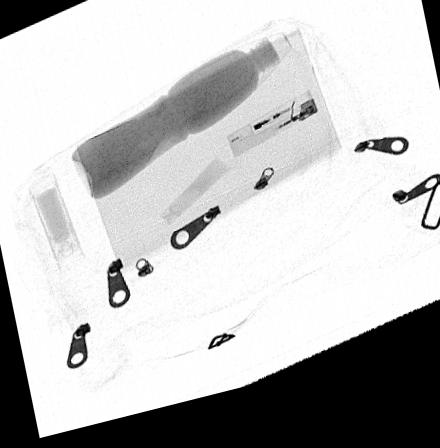Lighter: (225, 103, 318, 171)
